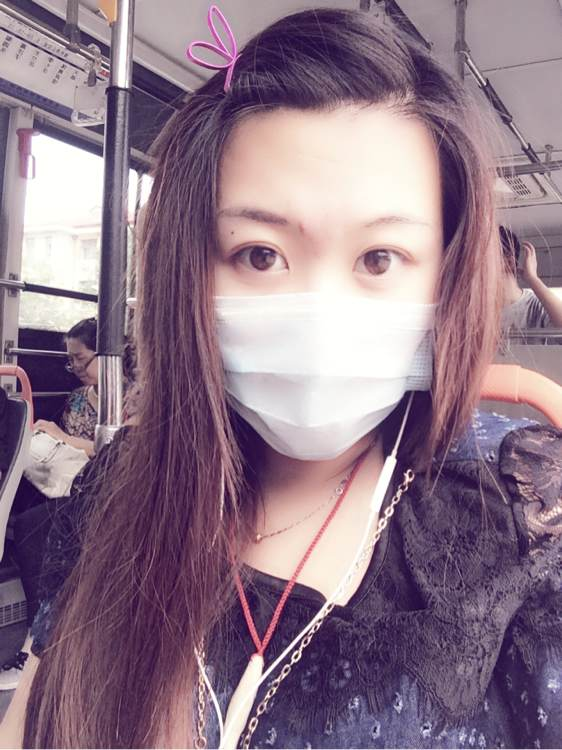face_mask: (204, 100, 432, 463), (67, 337, 95, 382)
